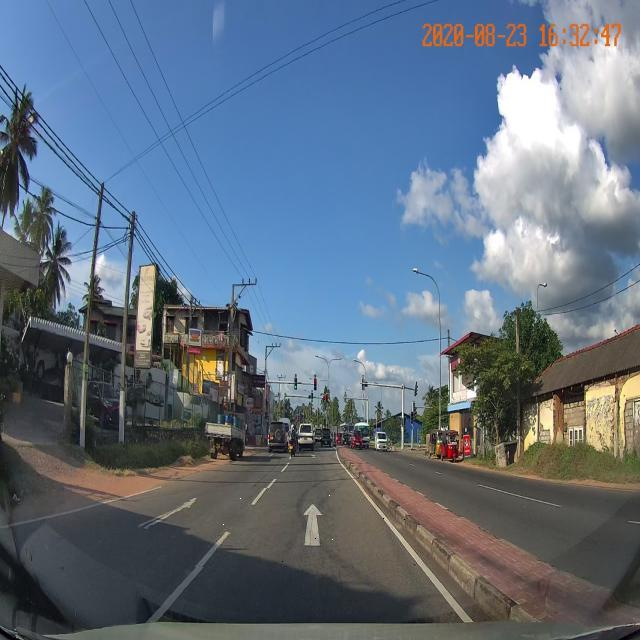forward: (191, 489, 428, 567)
